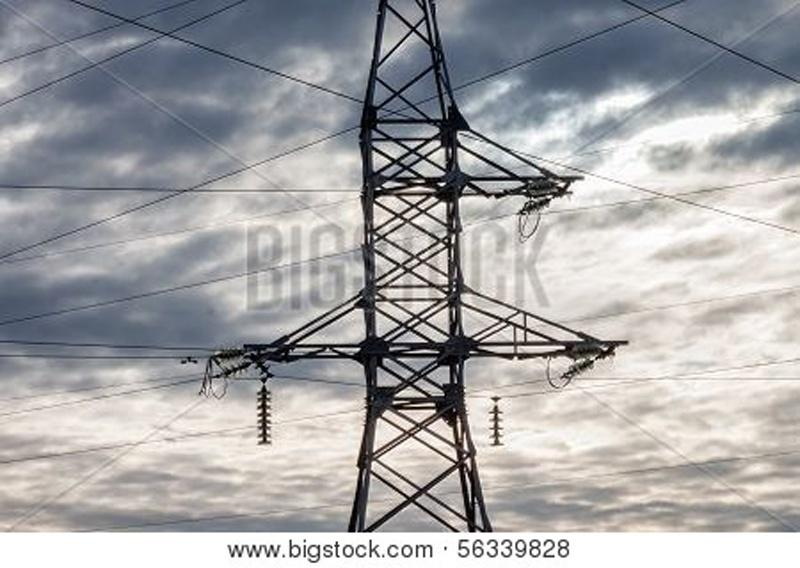power_tower: (233, 15, 578, 519)
